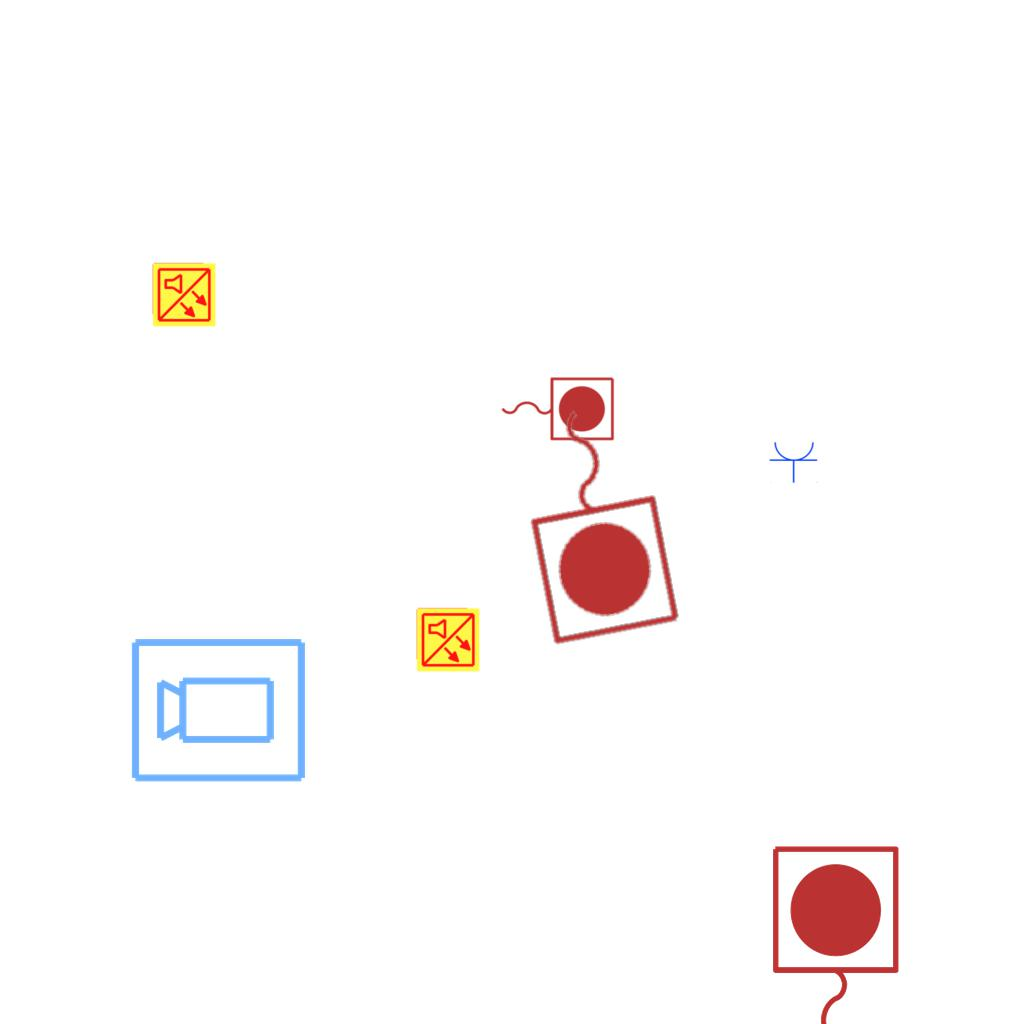KFO_Kamera_mit_Festobjektiv: (128, 632, 310, 786)
OKW_Multisensormelder_(Kombination_optischer_Rauch-Kahlenmonoxid_Waerme-Melder): (151, 262, 217, 328), (415, 607, 481, 673)
Schukosteckdose_einfach: (769, 440, 819, 483)
Zugtaster: (503, 386, 691, 654), (762, 838, 906, 1024), (496, 372, 618, 444)
